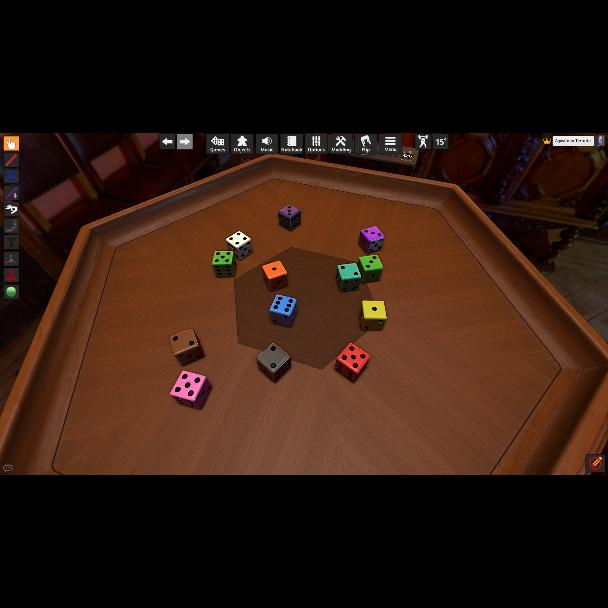d6: (169, 370, 211, 410), (256, 342, 292, 384), (335, 342, 369, 382), (171, 328, 204, 366), (269, 294, 297, 326), (262, 260, 288, 292), (226, 232, 253, 262), (360, 300, 386, 330), (358, 254, 384, 284), (358, 227, 384, 255), (336, 263, 360, 293), (212, 250, 236, 278), (279, 204, 301, 232)
